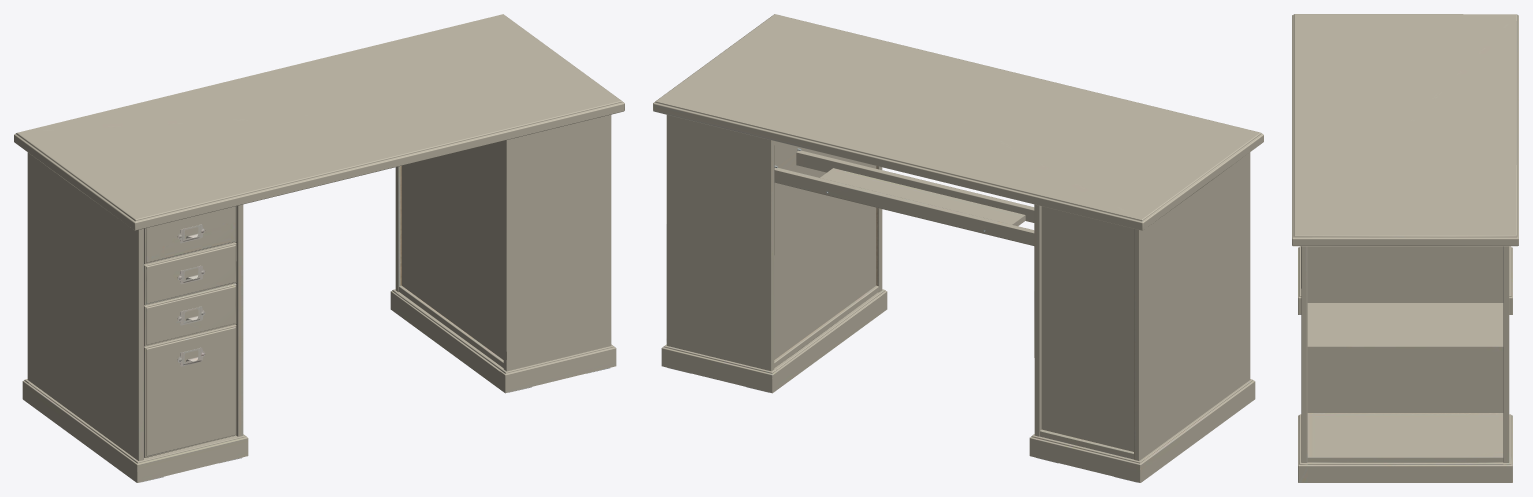
File: VEBJÖRN desk.glb
3 renders of one model, left to right at view 1: azimuth 30°, elevation 25°; view 2: azimuth 150°, elevation 25°; view 3: azimuth 270°, elevation 25°, orthographic. The views are drawn at different scales.
Parts seen in each view (by area): view 1: 60460838-VEBJÃƒâ€“RN001; view 2: 60460838-VEBJÃƒâ€“RN001; view 3: 60460838-VEBJÃƒâ€“RN001.
Part boxes in pixels (left/top/right/bottom): 60460838-VEBJÃƒâ€“RN001: left=14, top=14, right=624, bottom=482; 60460838-VEBJÃƒâ€“RN001: left=653, top=14, right=1263, bottom=482; 60460838-VEBJÃƒâ€“RN001: left=1292, top=14, right=1518, bottom=482.
Bounding box in the file's own units: 1.4 × 0.7298 × 0.5998.
1 material, 1 textured.
